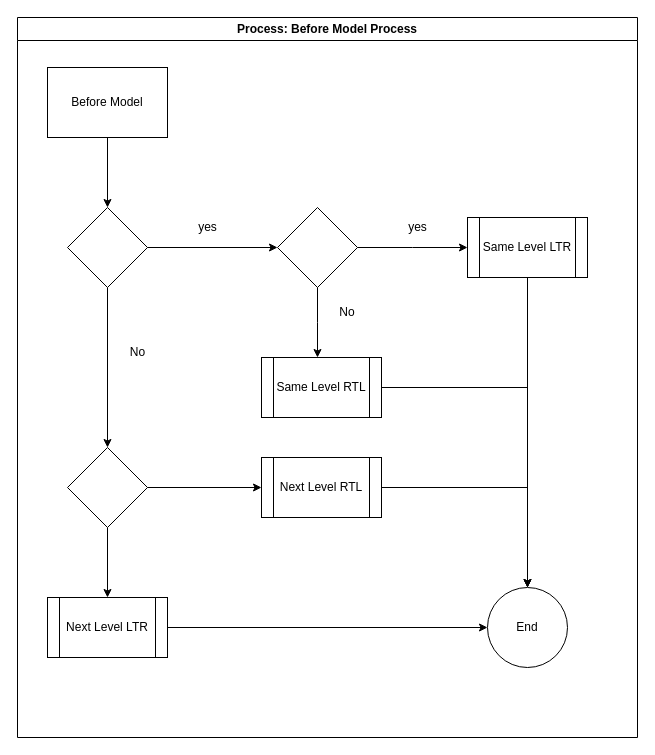
The diagram is 655 pixels wide and 755 high, and some of its shapes have lost their labels. Each missing label, with the centre of its shape:
"Same Level" goes at [107,247].
"To Greater Level?" goes at [107,487].
"To Greater Sublevel" goes at [317,247].
